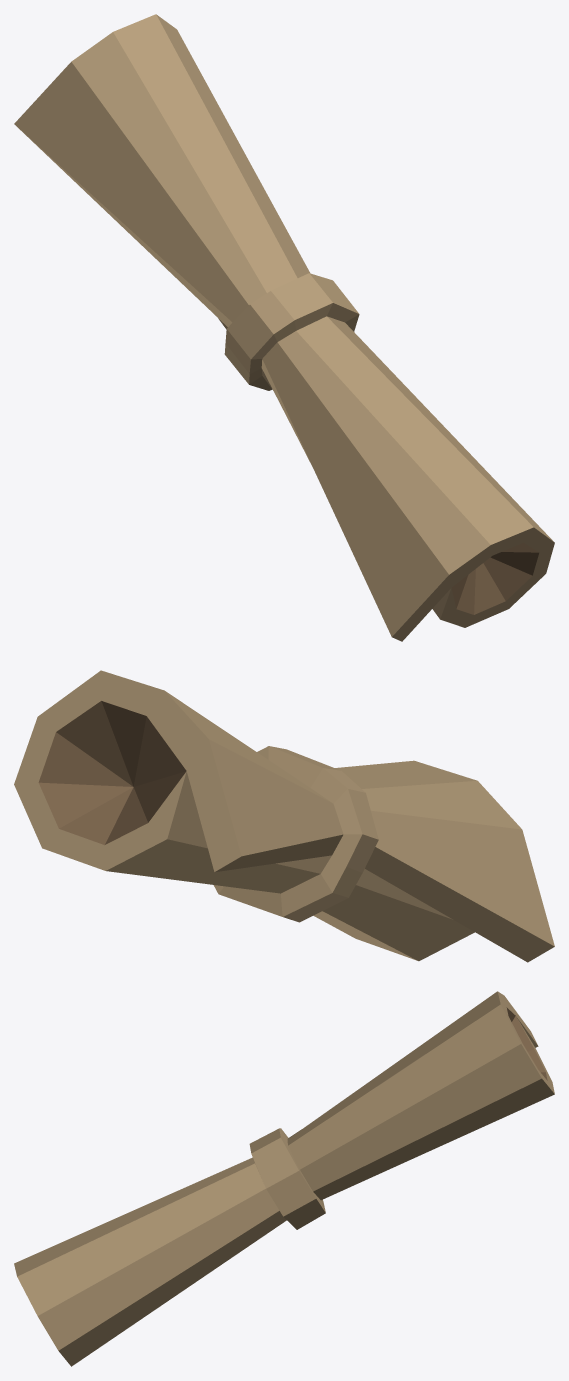
The model's file is Chr_HipsAttachment_08_Static.fbx.
3 views of the same model, one above another, from view 1: azimuth 30°, elevation 25°; view 2: azimuth 150°, elevation 25°; view 3: azimuth 270°, elevation 25° (orthographic). The views are drawn at different scales.
Visible parts, largest first — view 1: Chr_HipsAttachment_08_Static; view 2: Chr_HipsAttachment_08_Static; view 3: Chr_HipsAttachment_08_Static.
Part boxes in pixels (box(x1,y1,x2,y2)): Chr_HipsAttachment_08_Static: box(14, 14, 554, 641); Chr_HipsAttachment_08_Static: box(14, 670, 554, 962); Chr_HipsAttachment_08_Static: box(14, 991, 554, 1366).
Size of the model in its own units: 0.1547 by 0.2672 by 0.39.
